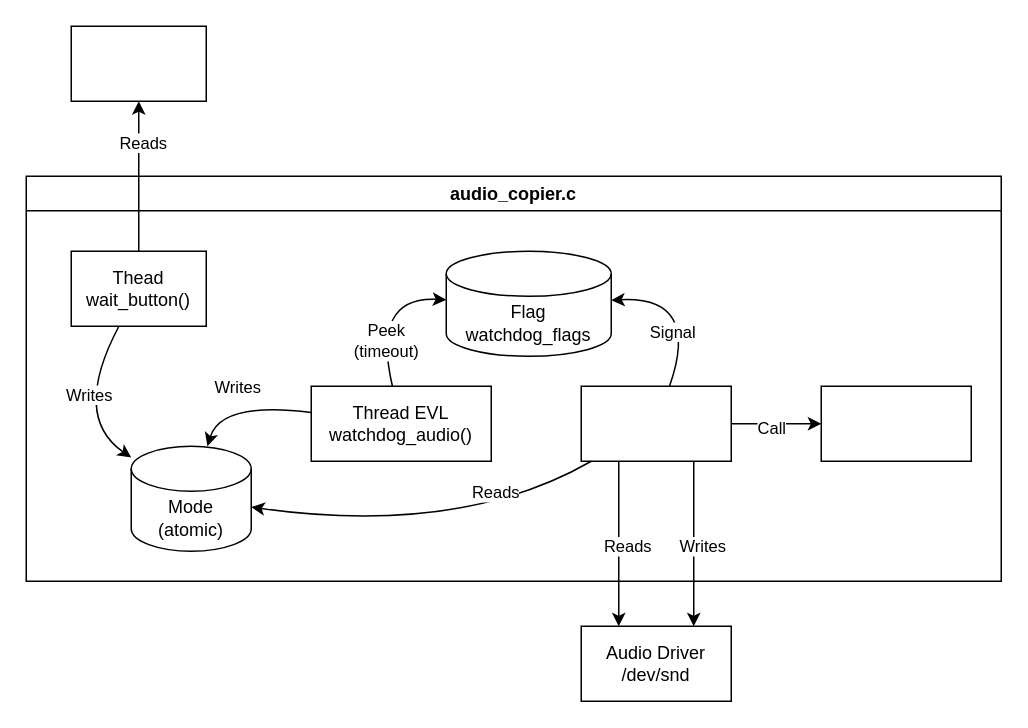
This 1028x728 diagram has some shape labels left out. Each missing label, with the centre of its shape:
Buttons KEY1 / KEY0: the point at 138,63
Function process_audio(): the point at 895,423
Thread EVL copy_audio(): the point at 655,423
